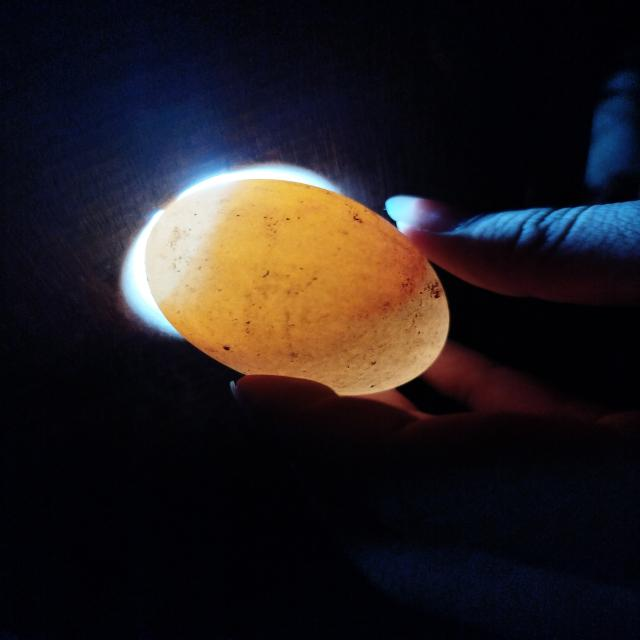Camara de Ar: (146, 182, 233, 302)
